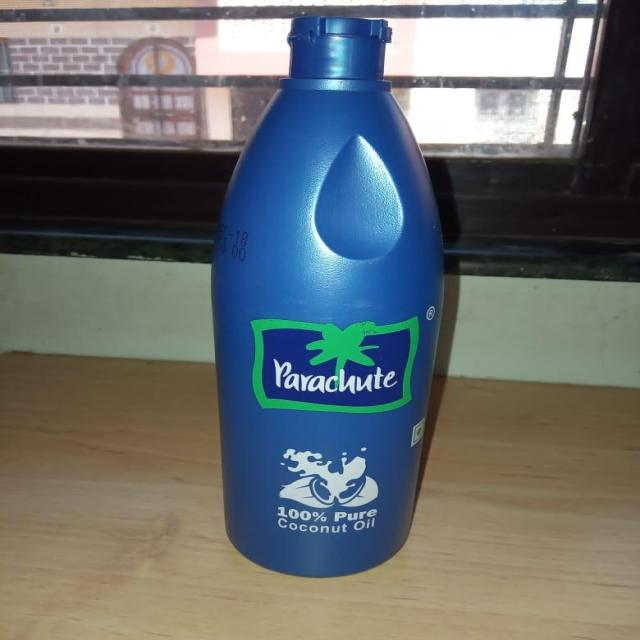parachute_oil: (204, 11, 456, 579)
